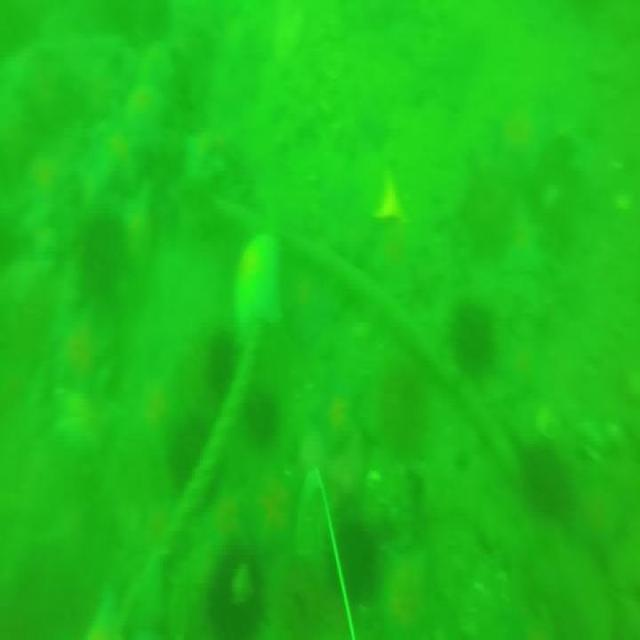echinus: (509, 439, 578, 531), (205, 543, 257, 640), (168, 416, 223, 493), (447, 294, 498, 376), (76, 215, 128, 295), (329, 518, 373, 594), (205, 332, 235, 393), (248, 384, 278, 439)
scallop: (359, 167, 409, 223)
